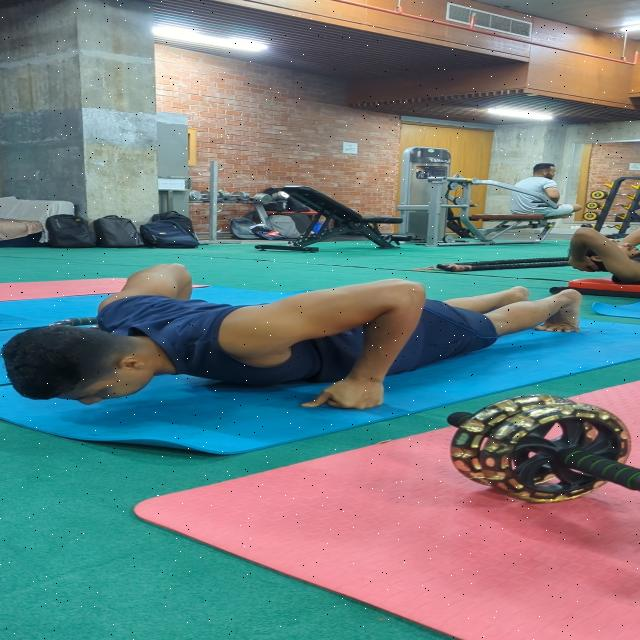Normal_PushUps: (9, 257, 595, 423)
